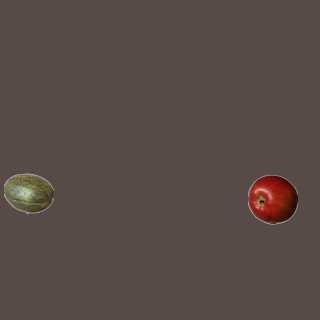Apple Braeburn: (247, 174, 297, 224)
Melon Piel de Sapo: (3, 168, 53, 218)
